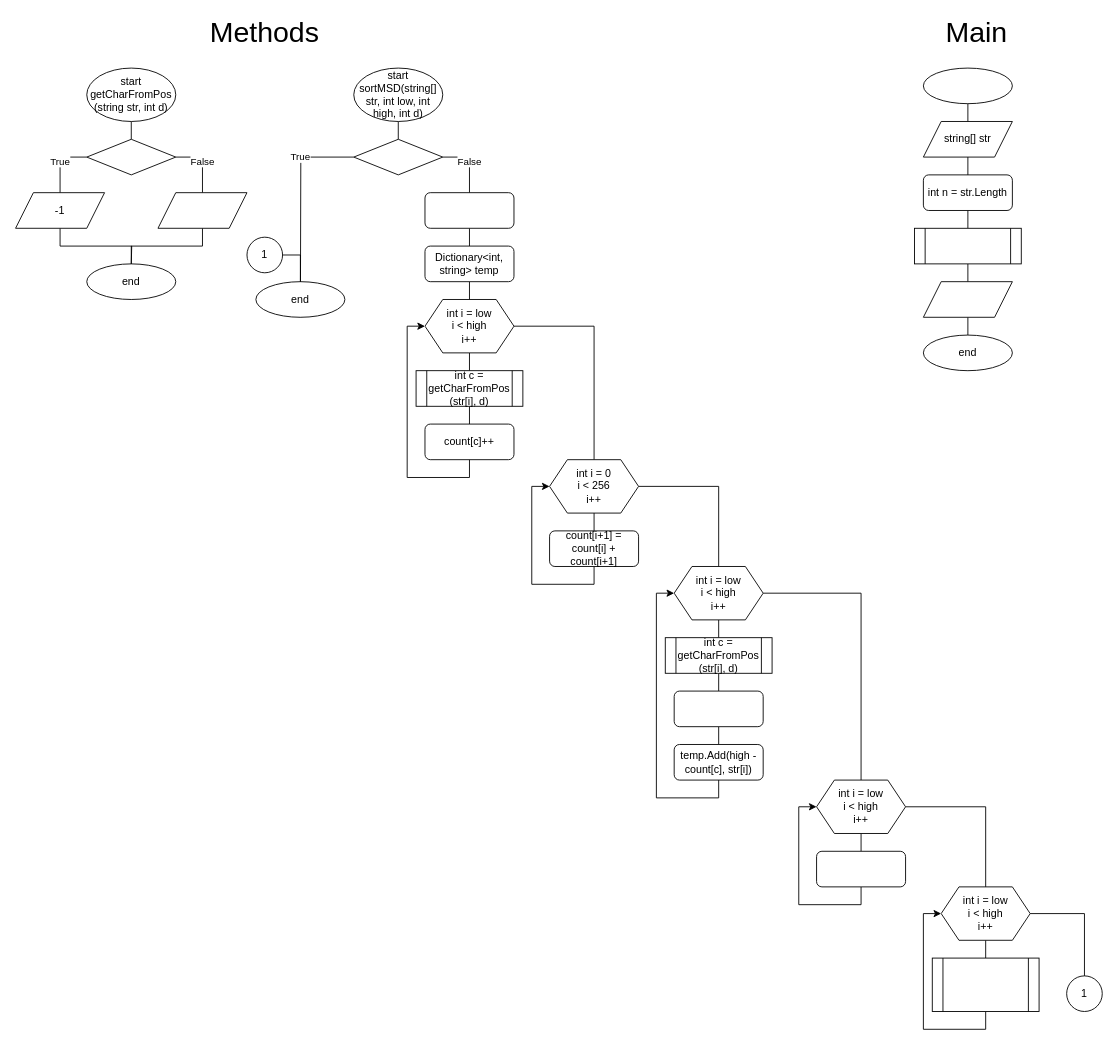
This 1118x1052 diagram has some shape labels left out. Here are the shapes that lost their labels. From the top down, the centre of each, then its label:
point (967, 85): start
point (131, 156): str.Length <= d
point (398, 156): high <= low
point (202, 210): (int)(str[d])
point (469, 210): int[257] count
point (967, 245): sortMSD(str, 0, n-1, 0)
point (967, 299): str
point (718, 708): count[c]--
point (861, 868): str[i] = temp[i]
point (985, 984): sortMSD(str, high + 1 - count[i+1], high - count[i], d+1)
